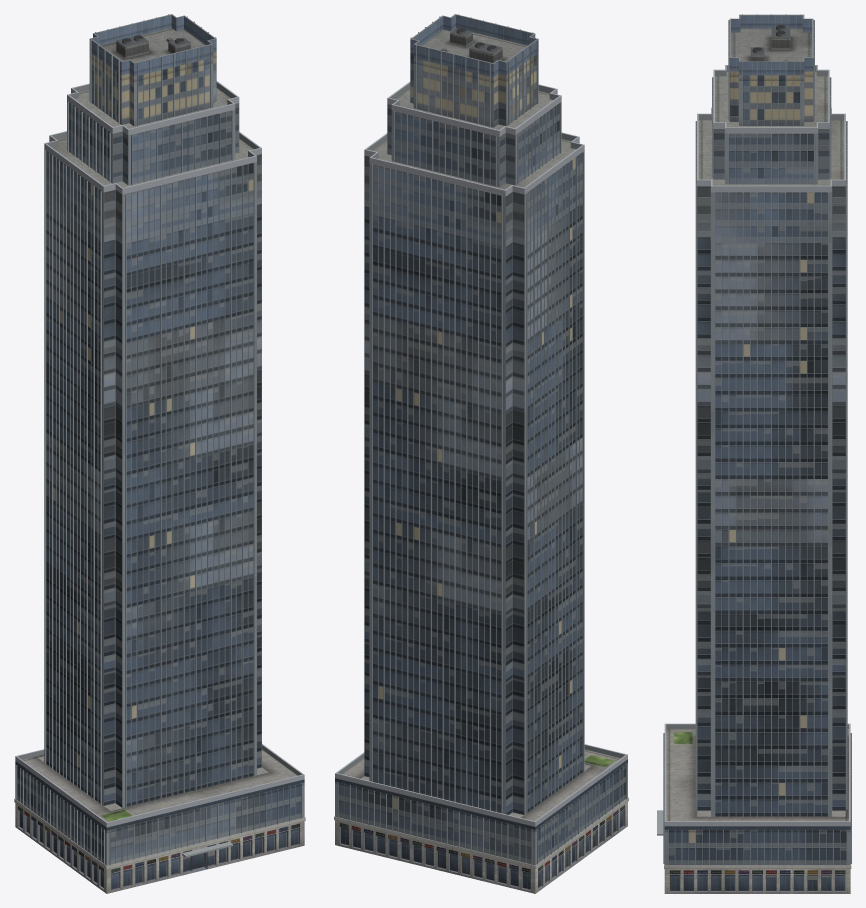
Rendered from nyc_glasstower_b.glb.
3 renders of one model, left to right at view 1: azimuth 30°, elevation 25°; view 2: azimuth 150°, elevation 25°; view 3: azimuth 270°, elevation 25°, orthographic.
Visible parts, largest first — view 1: nyc_glasstower_b; view 2: nyc_glasstower_b; view 3: nyc_glasstower_b.
Boxes of the visible parts, x1,y1,x2,y2 form: nyc_glasstower_b: [14, 14, 305, 893]; nyc_glasstower_b: [334, 14, 628, 893]; nyc_glasstower_b: [657, 14, 851, 893].
Size of the model in its own units: 50.48 by 191 by 41.84.
Materials: 1 (1 with a texture image).
